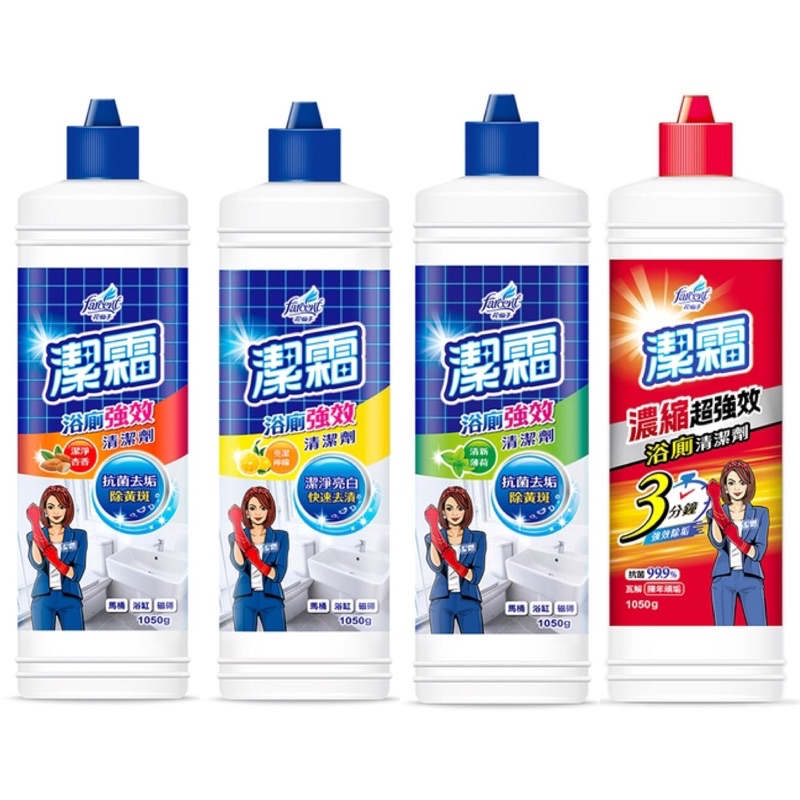cleaner: (401, 90, 599, 715), (603, 88, 800, 711), (198, 97, 396, 708), (9, 93, 193, 704)
